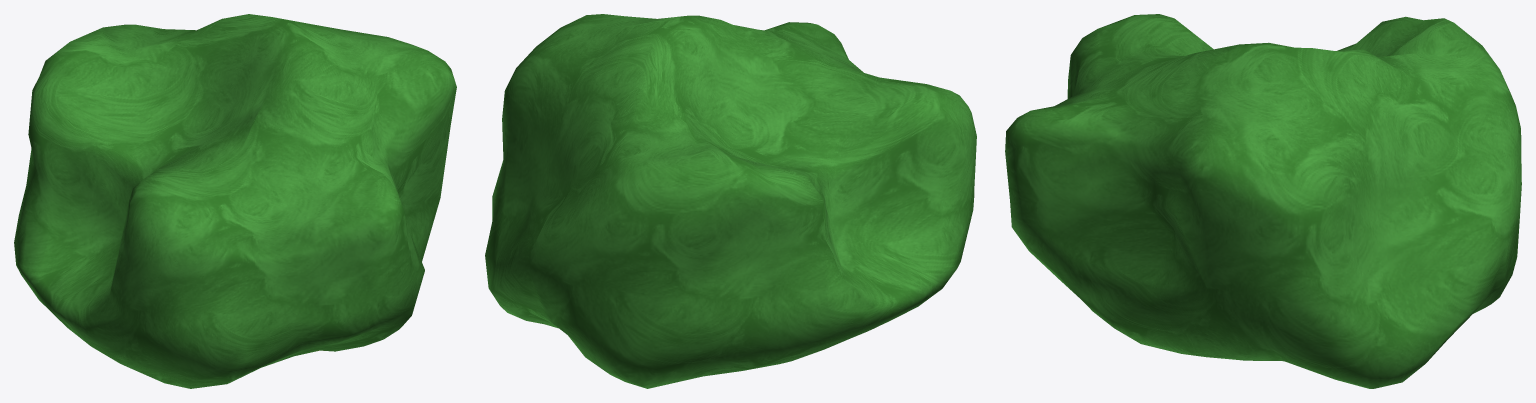
The model's file is Bush.fbx.
3 renders of one model, left to right at view 1: azimuth 30°, elevation 25°; view 2: azimuth 150°, elevation 25°; view 3: azimuth 270°, elevation 25°, orthographic. The views are drawn at different scales.
Parts seen in each view (by area): view 1: Bush; view 2: Bush; view 3: Bush.
Boxes of the visible parts, box(x1,y1,x2,y2) form: Bush: box(14, 14, 456, 388); Bush: box(485, 14, 976, 388); Bush: box(1005, 14, 1521, 388).
Bounding box in the file's own units: 133 × 91.55 × 141.
